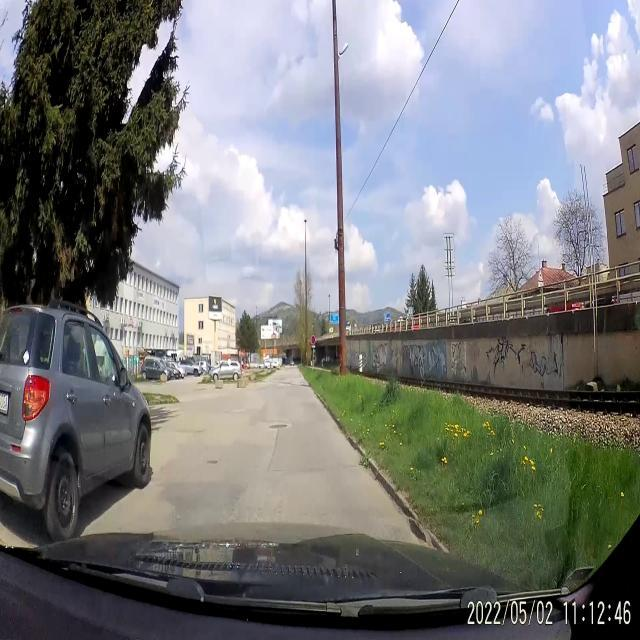Manhole: (266, 412, 292, 434)
Pothole: (204, 452, 220, 470)
